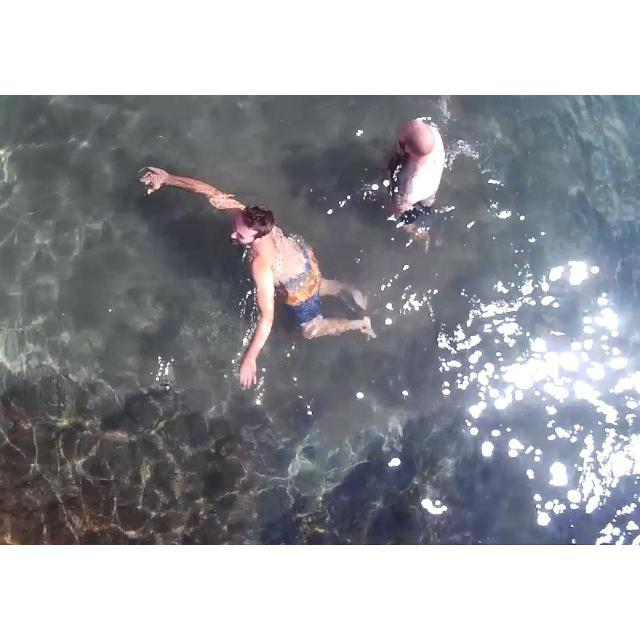human: (139, 158, 344, 369), (364, 105, 463, 239)
